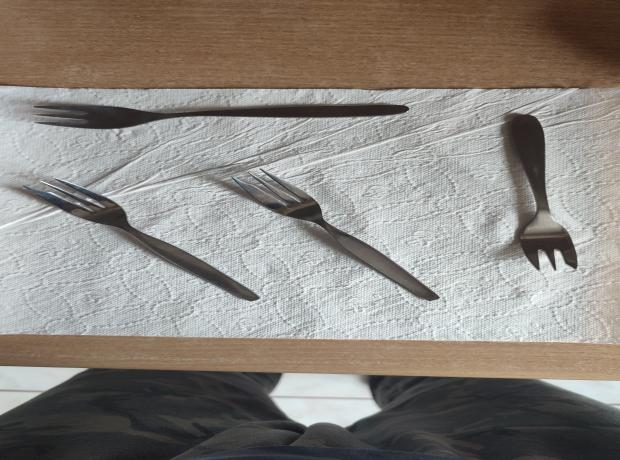metal: (23, 176, 259, 302), (233, 167, 439, 300), (507, 114, 580, 271), (32, 103, 409, 129)
